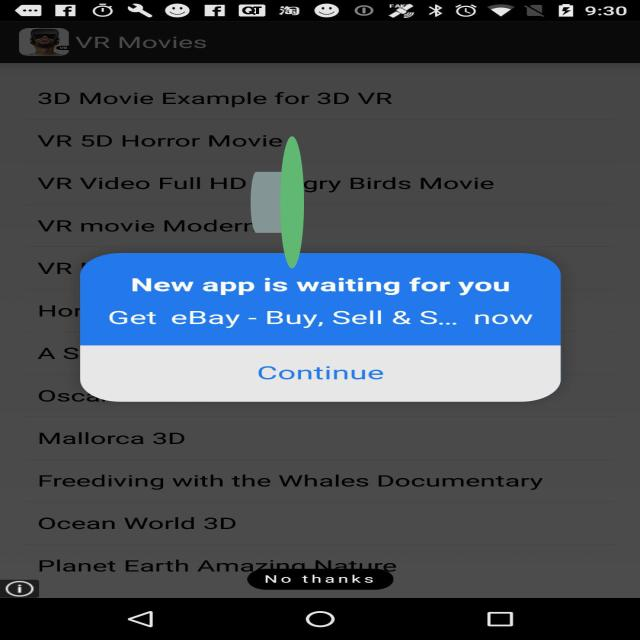social proof: (251, 55, 304, 350)
